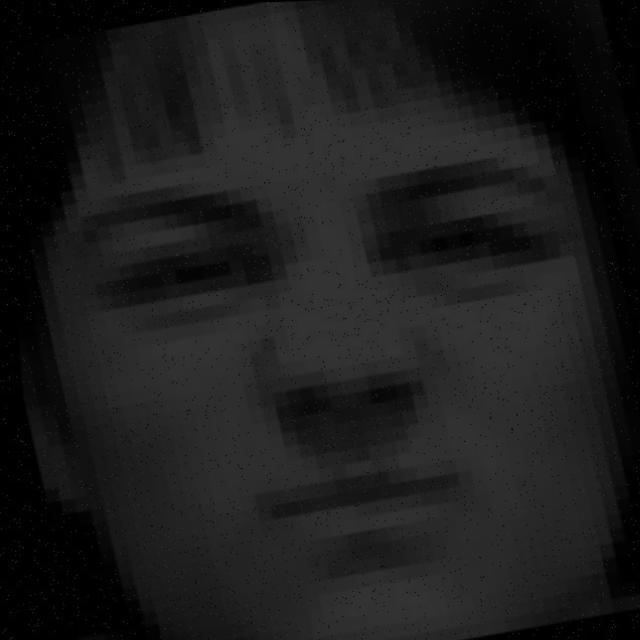Disgust: (43, 103, 640, 640)
